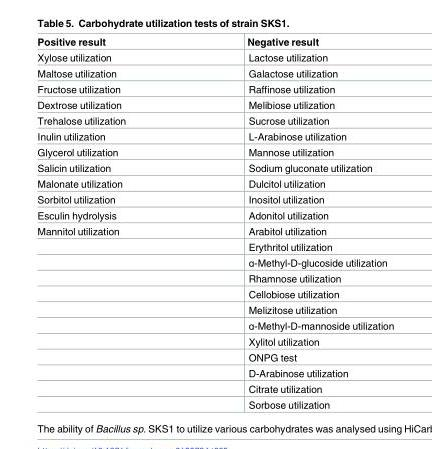table: (36, 37, 393, 410)
table column: (185, 37, 393, 410), (36, 37, 185, 410)
table column header: (36, 37, 393, 49)
table row: (36, 253, 393, 271), (36, 316, 393, 334), (36, 49, 393, 65), (36, 65, 393, 81), (36, 81, 393, 97), (36, 97, 393, 113), (36, 128, 393, 144), (36, 144, 393, 160), (36, 160, 393, 176), (36, 191, 393, 207), (36, 207, 393, 223), (36, 223, 393, 239), (36, 286, 393, 302), (36, 349, 393, 365), (36, 365, 393, 381), (36, 381, 393, 397), (36, 113, 393, 128), (36, 176, 393, 191), (36, 271, 393, 286), (36, 334, 393, 349), (36, 239, 393, 253), (36, 302, 393, 316), (36, 397, 393, 410), (36, 37, 393, 49)
table spanning cell: (36, 223, 185, 410)
